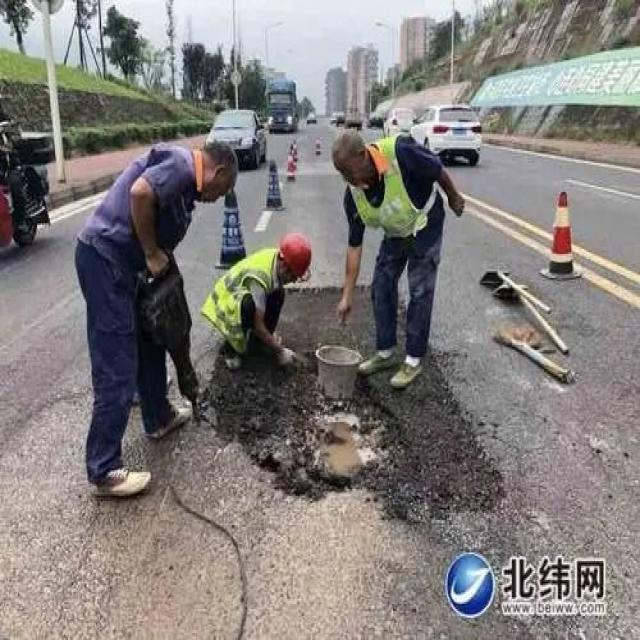Pothole: (296, 407, 388, 494)
